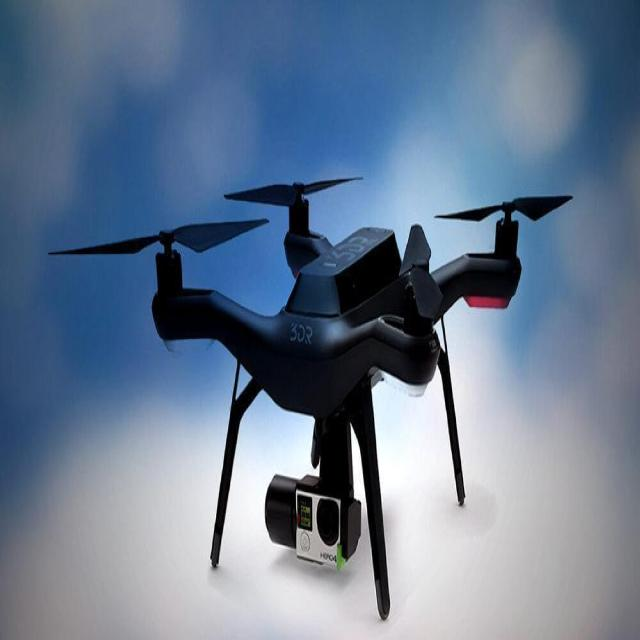drone: (49, 174, 575, 624)
